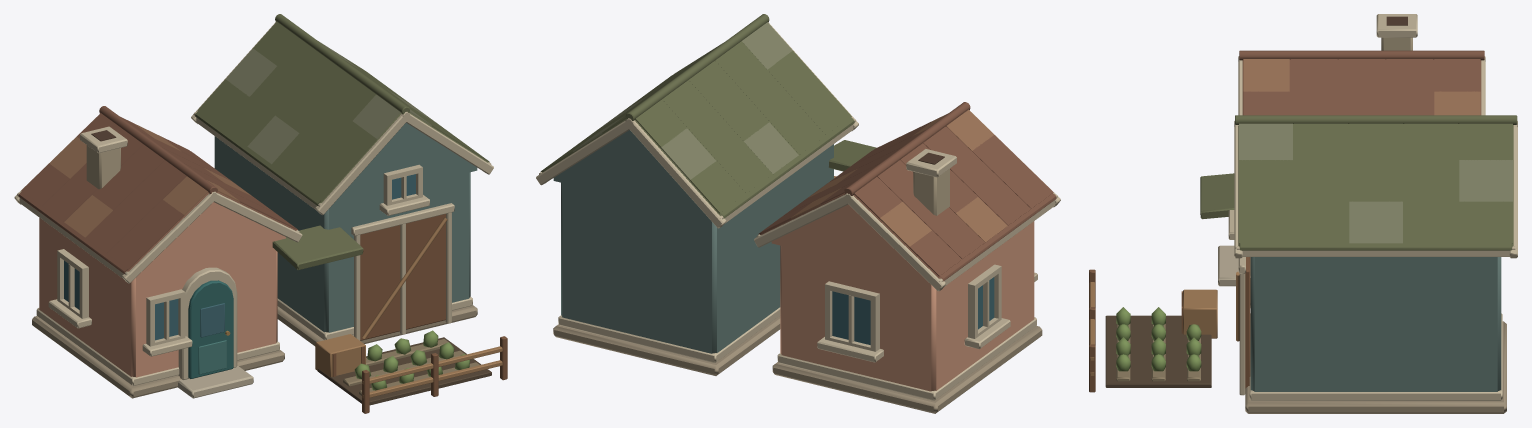
File: farmstead_level_2.glb
3 renders of one model, left to right at view 1: azimuth 30°, elevation 25°; view 2: azimuth 150°, elevation 25°; view 3: azimuth 270°, elevation 25°, orthographic. The views are drawn at different scales.
Parts seen in each view (by area): view 1: farmstead_level_2_runtime; view 2: farmstead_level_2_runtime; view 3: farmstead_level_2_runtime.
Part boxes in pixels (left/top/right/bottom): farmstead_level_2_runtime: left=14, top=14, right=507, bottom=413; farmstead_level_2_runtime: left=536, top=14, right=1060, bottom=413; farmstead_level_2_runtime: left=1089, top=14, right=1517, bottom=413.
Size of the model in its own units: 6.66 by 4.03 by 6.08.
